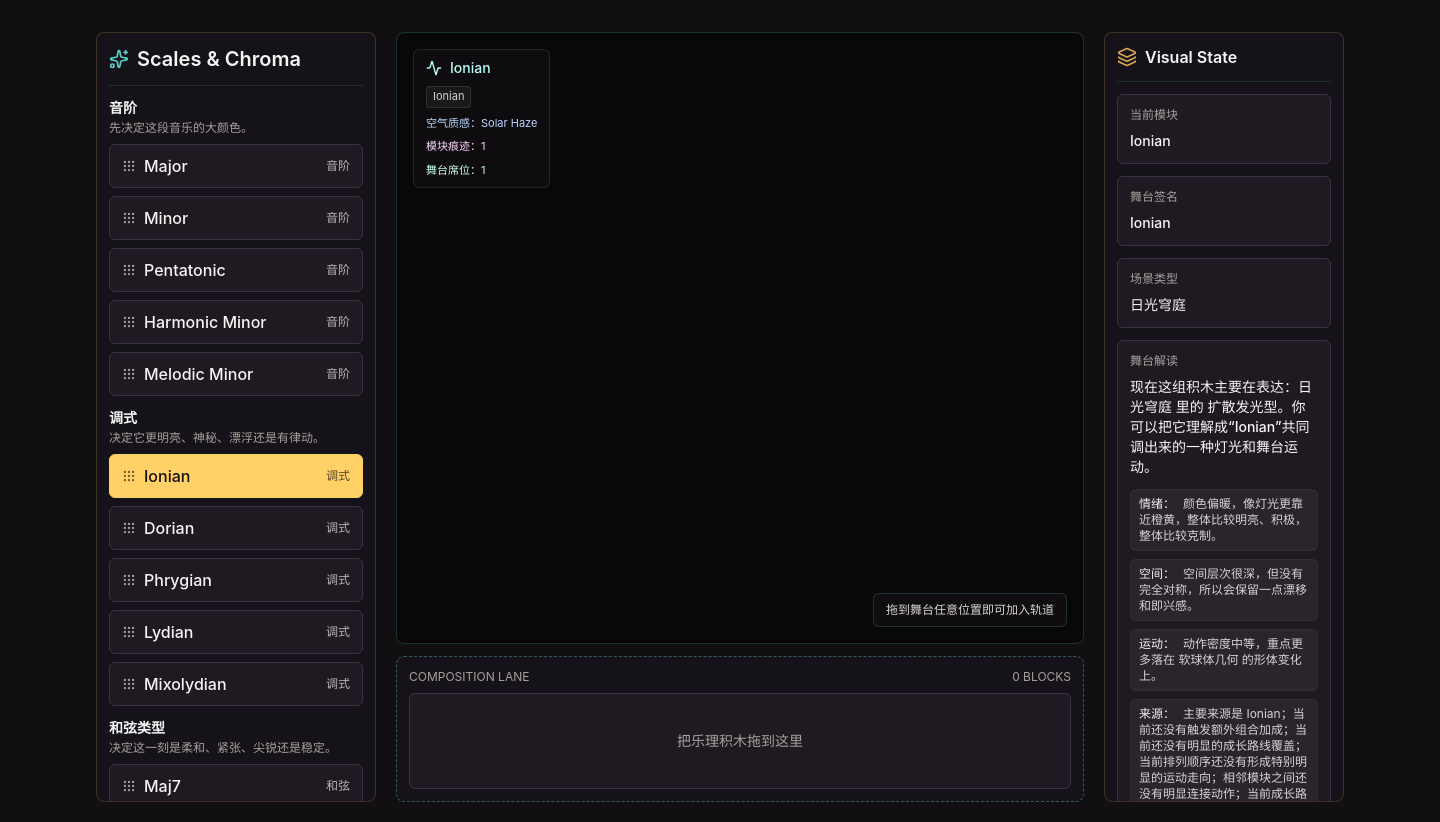
Test: TheorySandbox › adds a custom chord progression and explains compatibility in plain language
Click the button "Lydian 调式" at (236, 632), box 109,610 -> 363,654
(page scrolled)
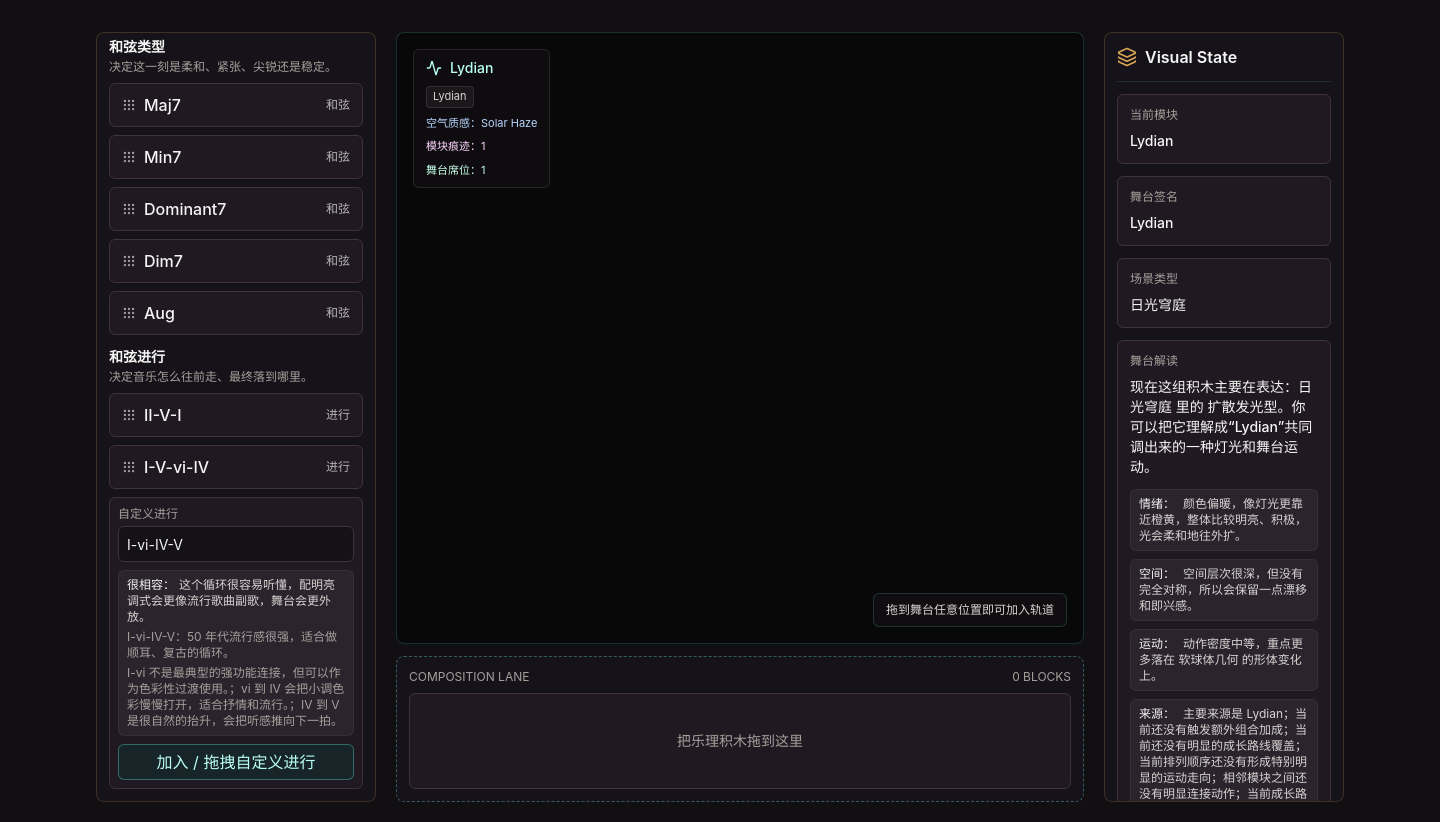
Replace the text in the field labelled "自定义进行" with "ii-V-I" at (236, 544), box 118,526 -> 354,562
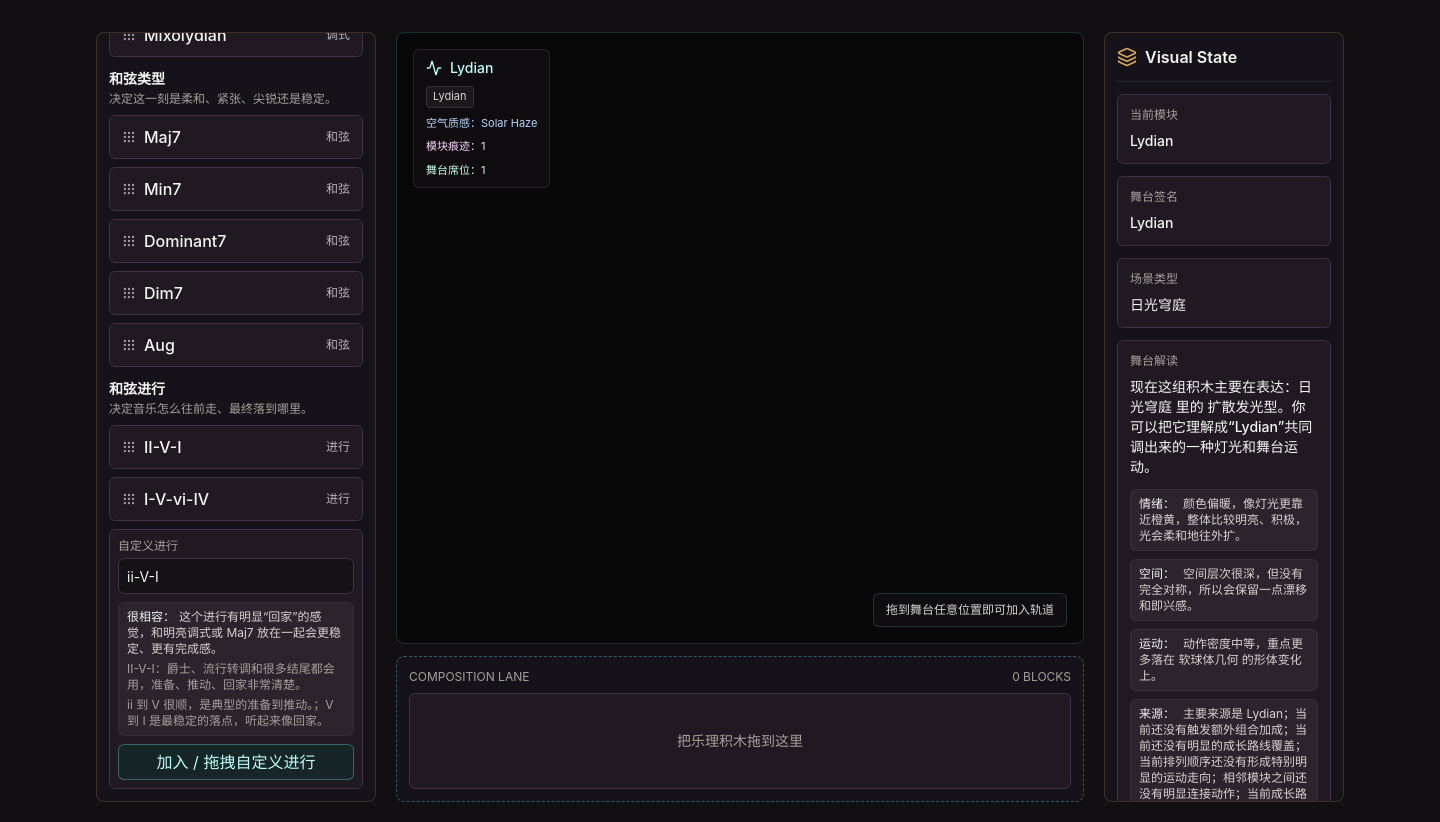
Now the text "很相容：" is shown, box 127,609 -> 175,624
Now the text "这个进行有明显“回家”的感觉，和明亮调式或 Maj7 放在一起会更稳定、更有完成感。" is shown, box 127,609 -> 341,656
Click the button "加入 / 拖拽自定义进行" at (236, 762), box 118,744 -> 354,780
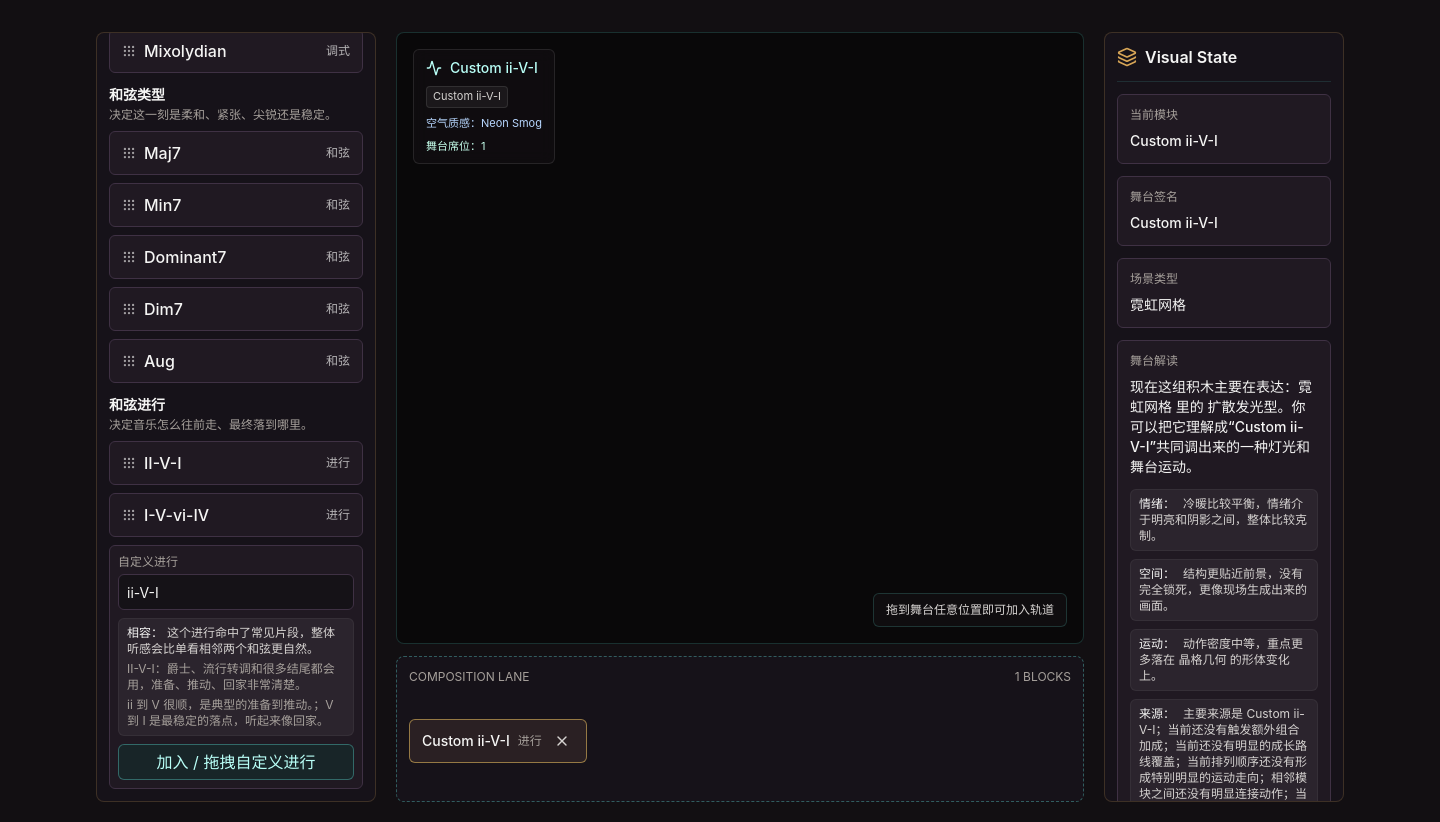
Now the element named "乐理编排轨道" shows "Custom ii-V-I", box 422,732 -> 510,749
